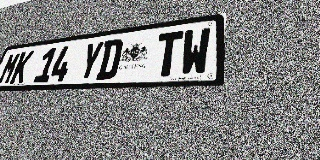1: (33, 47, 60, 83)
4: (48, 45, 75, 82)
D: (95, 38, 124, 80)
K: (9, 50, 35, 84)
M: (0, 52, 22, 84)
T: (153, 31, 183, 77)
W: (179, 27, 211, 76)
Y: (76, 41, 105, 81)
